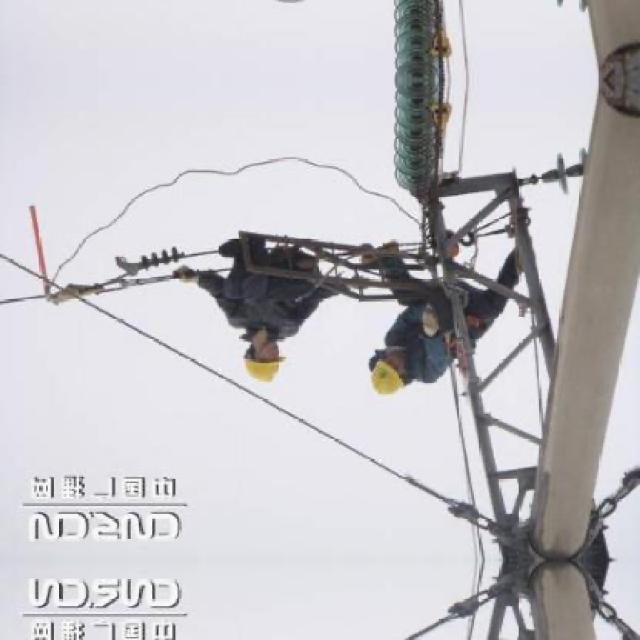con casco: (359, 354, 443, 426), (213, 321, 301, 387)
